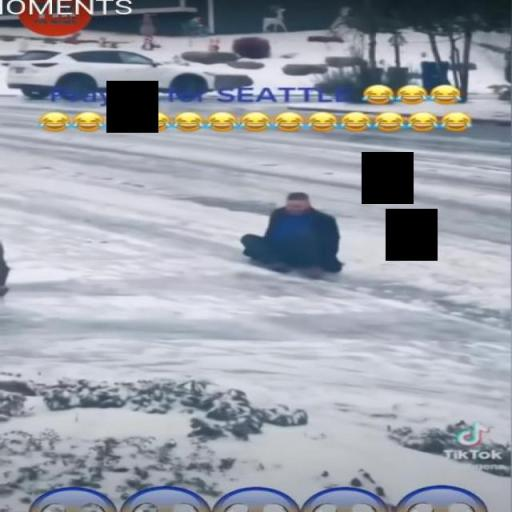Fall: (235, 191, 353, 286)
